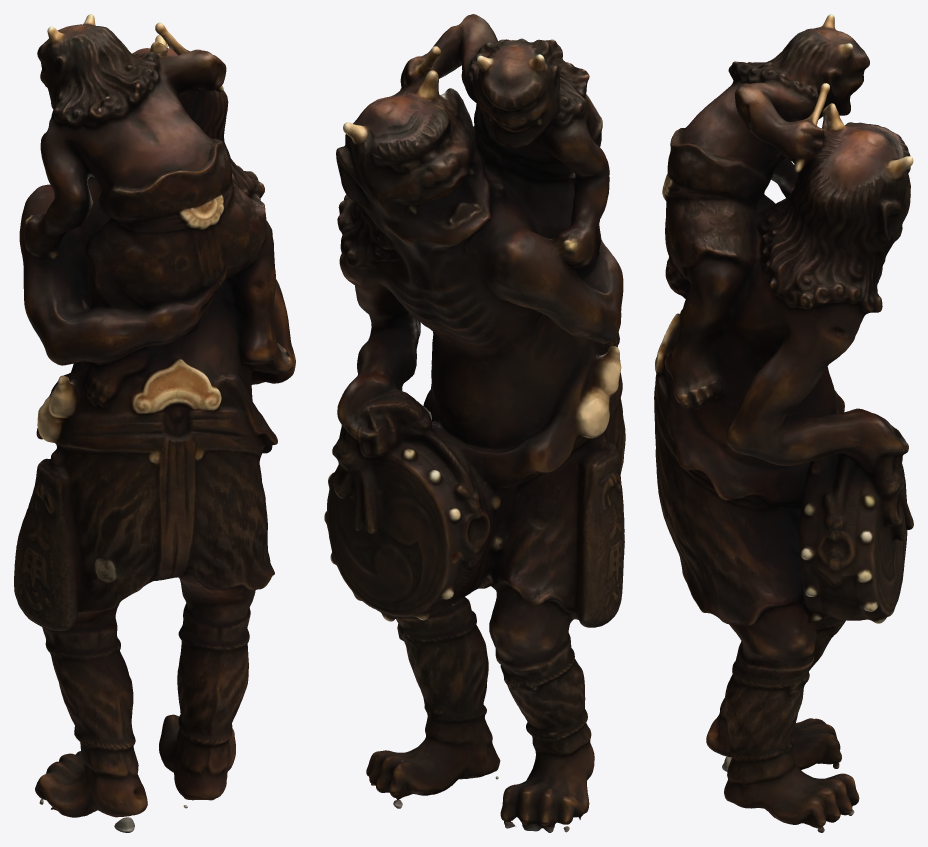
File: preview.glb
3 views of the same model, side by side, from view 1: azimuth 30°, elevation 25°; view 2: azimuth 150°, elevation 25°; view 3: azimuth 270°, elevation 25° (orthographic). The views are drawn at different scales.
Visible parts, largest first — view 1: Object_2; view 2: Object_2; view 3: Object_2.
Boxes of the visible parts, x1,y1,x2,y2 form: Object_2: (14, 14, 295, 832); Object_2: (324, 14, 625, 832); Object_2: (654, 14, 913, 832).
Bounding box in the file's own units: 0.7105 × 2.08 × 0.6576.
Materials: 1 (1 with a texture image).
